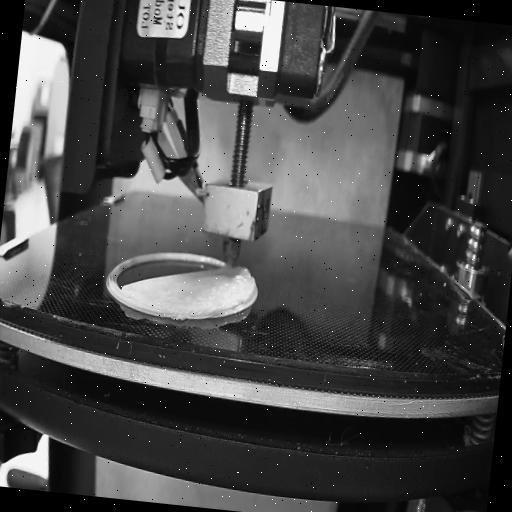over_extrusion: (236, 260, 262, 308)
